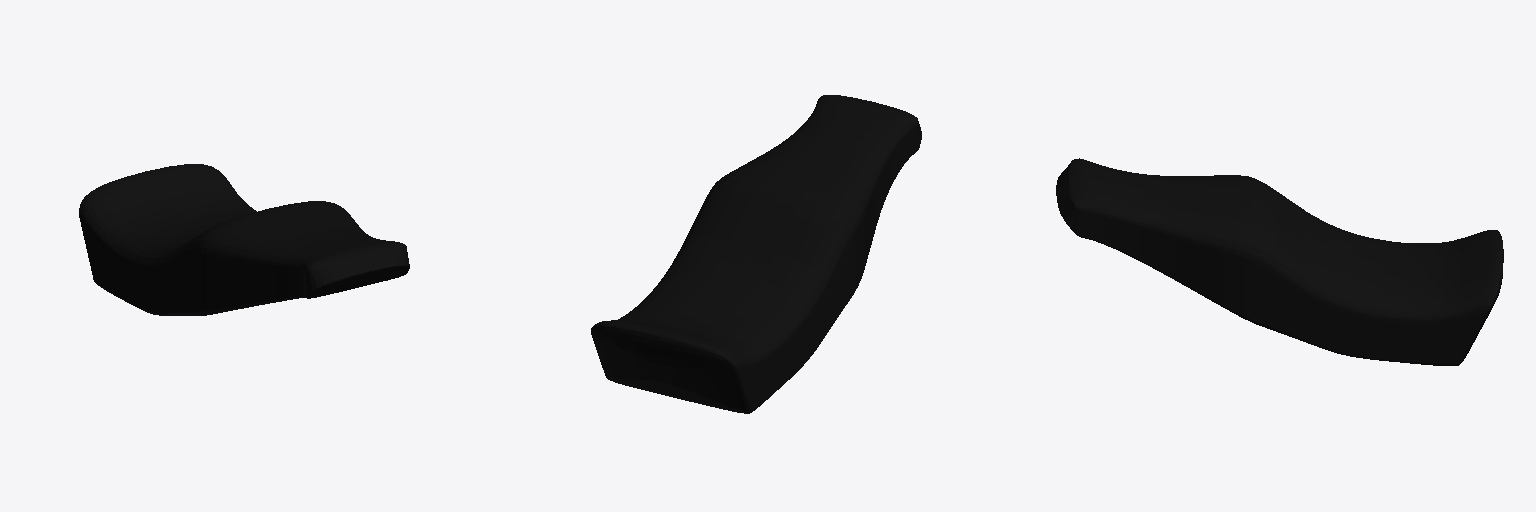
The model's file is CB400SF_Seat.obj.
The picture shows the model from 3 angles: view 1: azimuth 30°, elevation 25°; view 2: azimuth 150°, elevation 25°; view 3: azimuth 270°, elevation 25°; orthographic projection.
Visible parts, largest first — view 1: Sedlo; view 2: Sedlo; view 3: Sedlo.
Part boxes in pixels (x1,y1,x2,y2): Sedlo: (79,164,409,315); Sedlo: (591,95,921,413); Sedlo: (1056,158,1503,365).
Bounding box in the file's own units: 32.57 × 33.39 × 86.39.